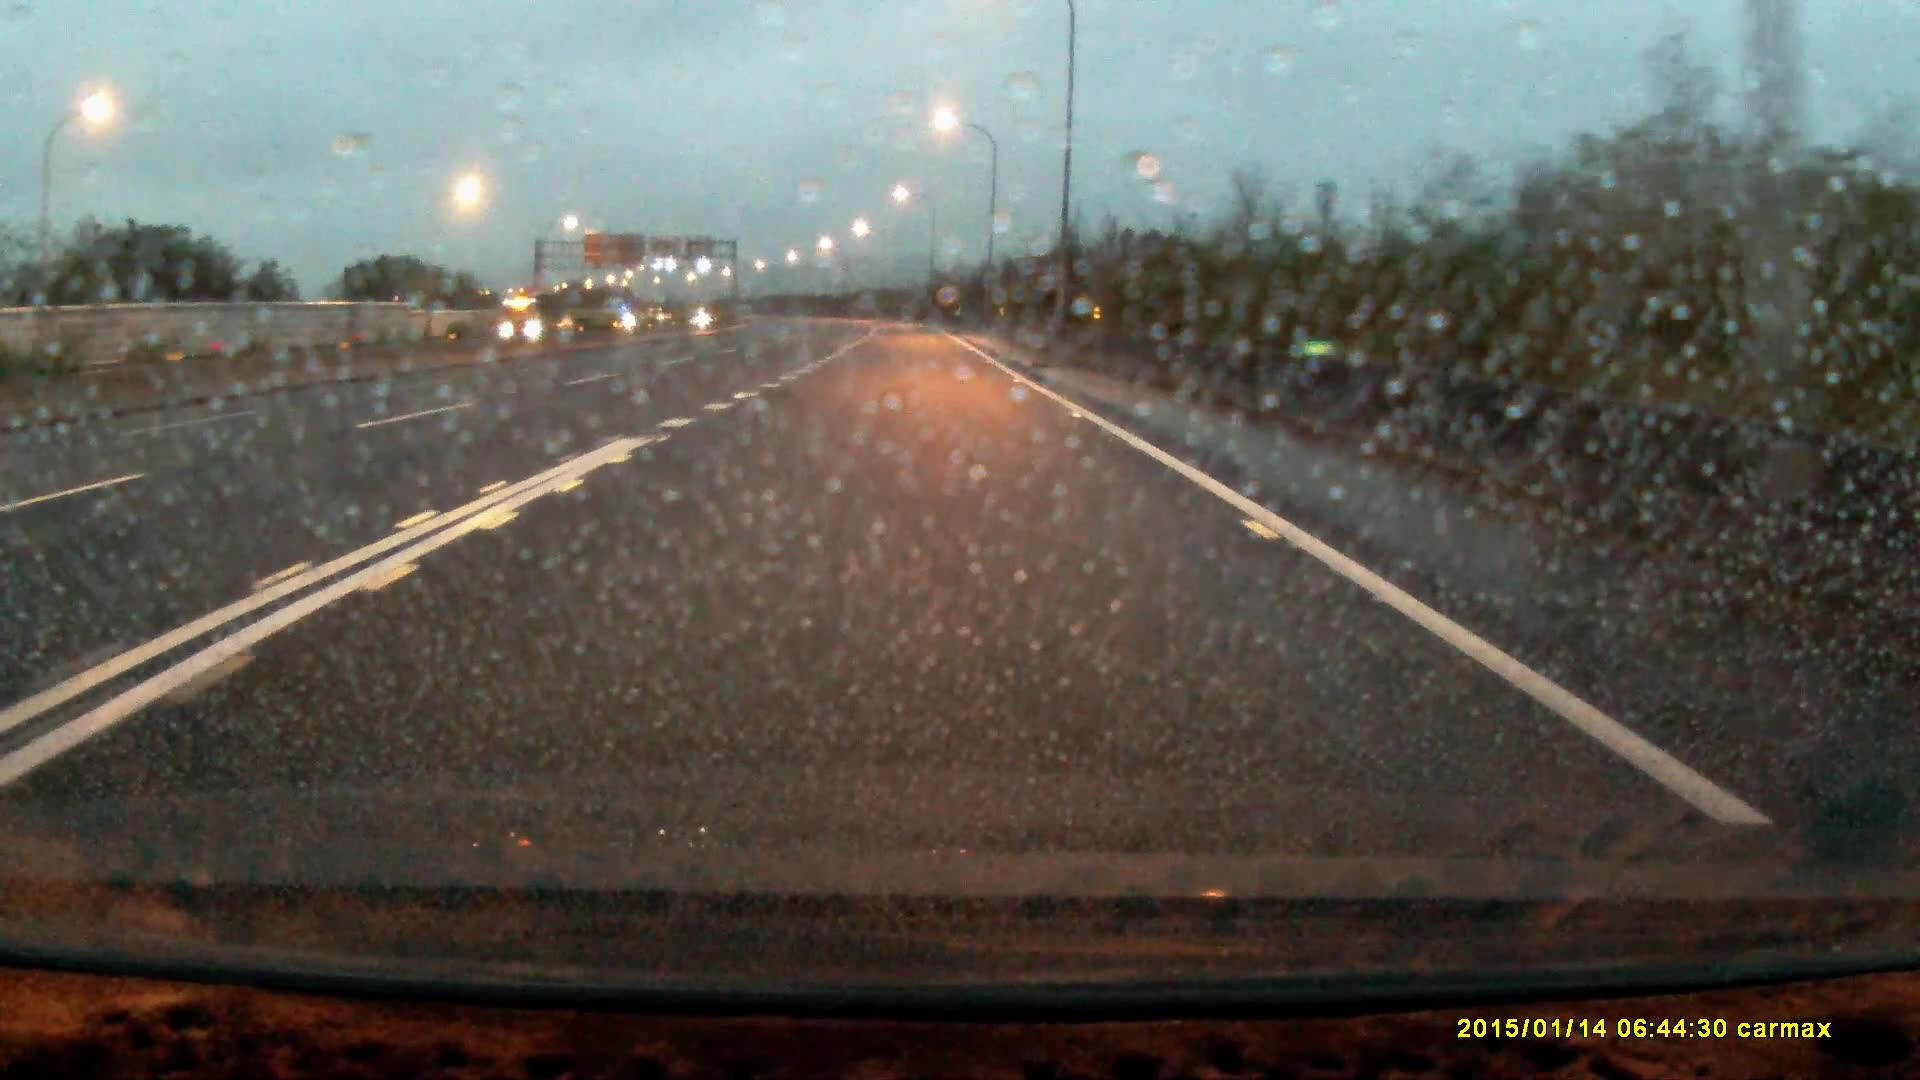vehicle: (501, 298, 570, 344)
